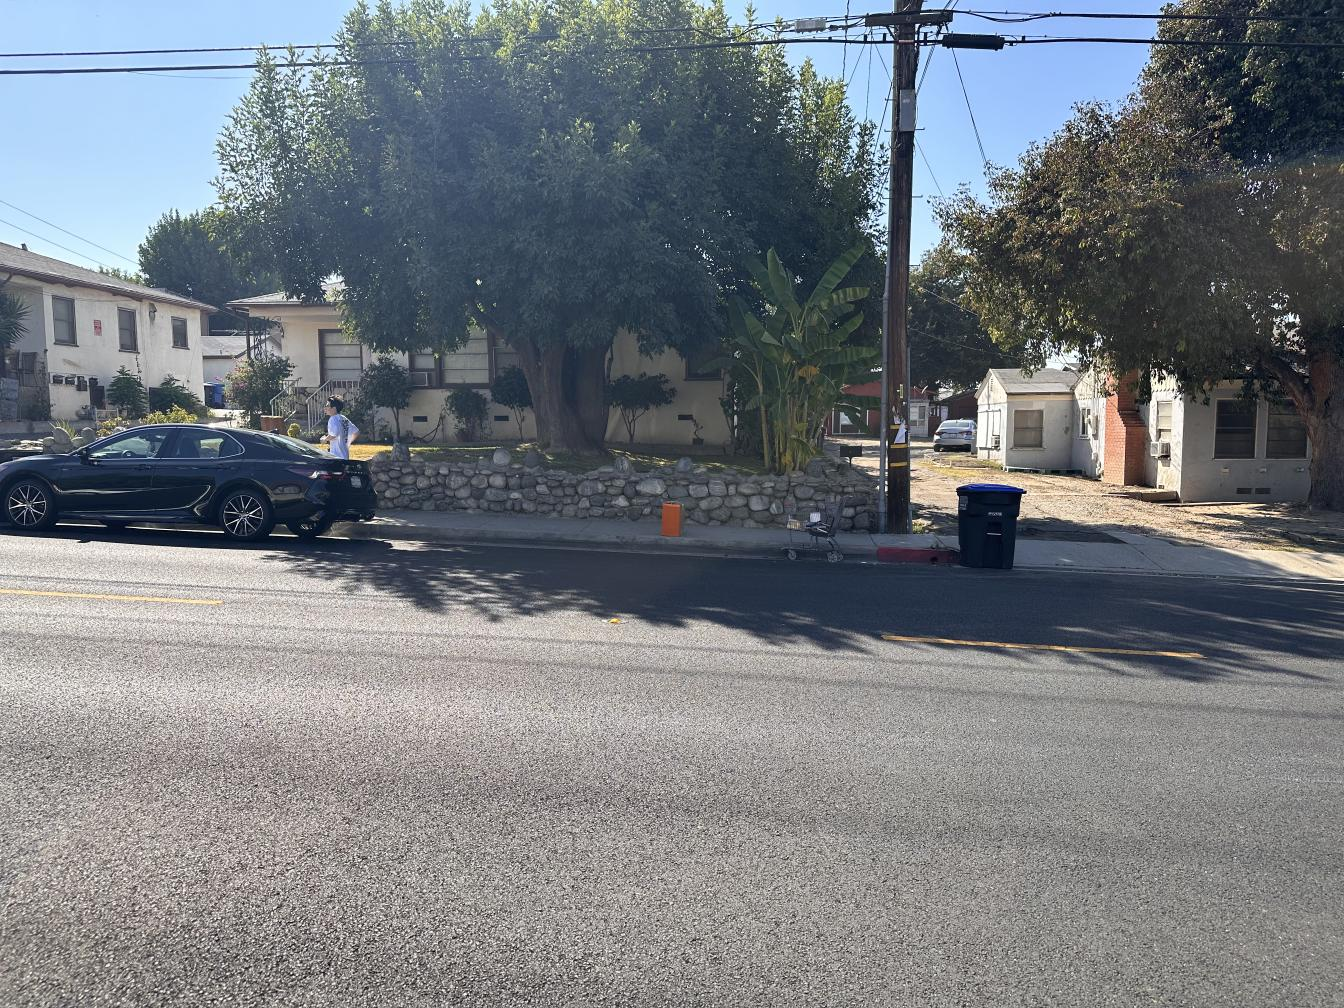curbs-laRr: (384, 525, 596, 550), (598, 538, 776, 558)
orange box: (660, 500, 687, 537)
